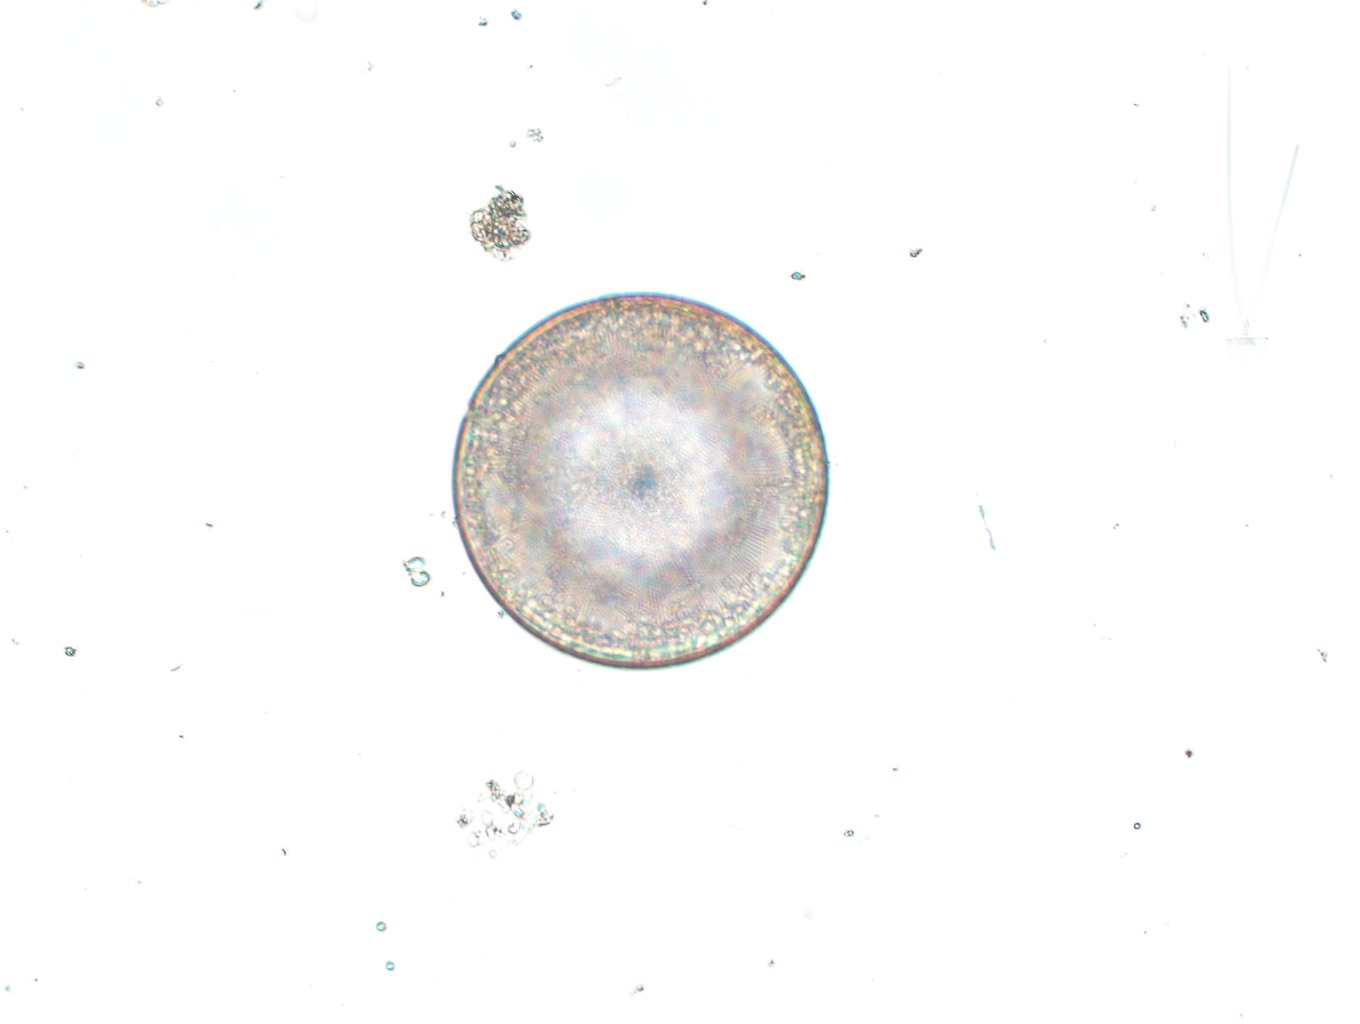coscinodiscus: (450, 291, 830, 670)
